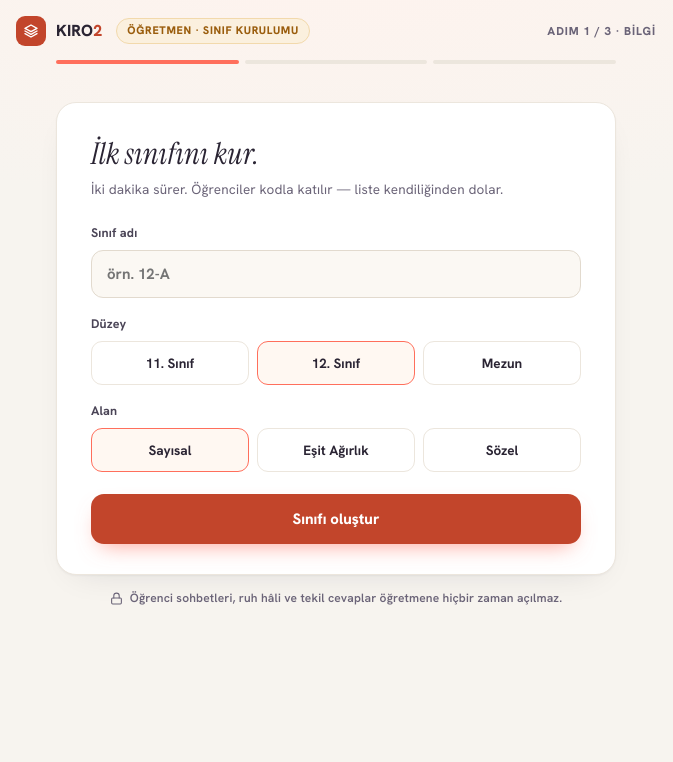
SinifKurulumuPage › kopyala: pano-kopya + "Kopyalandı" etiketi (aria-live geri bildirim)
The image size is (673, 762).
Click the button "Sınıfı oluştur".
click(336, 519)  # box [91,494,581,544]
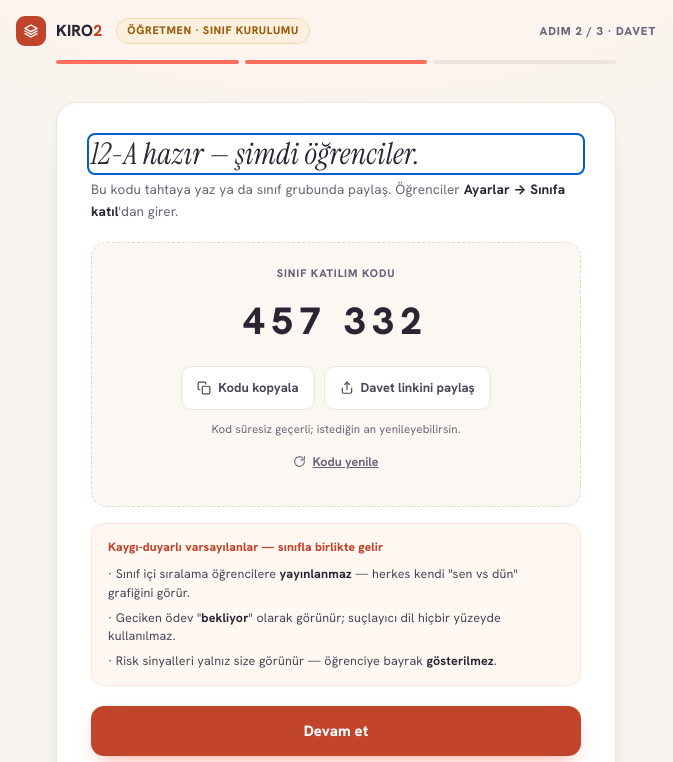
Click the button "Kodu kopyala".
click(248, 388)  # box [181,366,314,410]
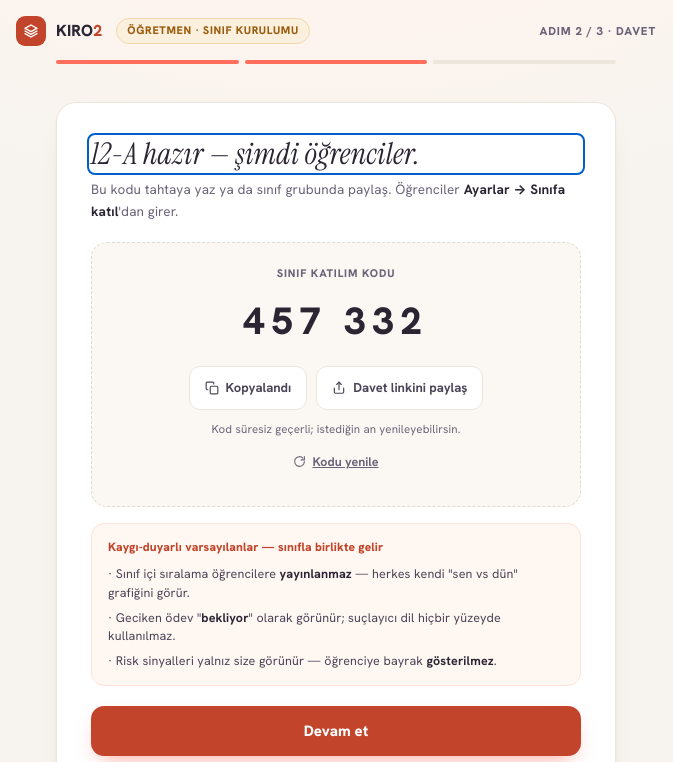
Now the button "Kopyalandı" is shown, box [188,366,307,410]
